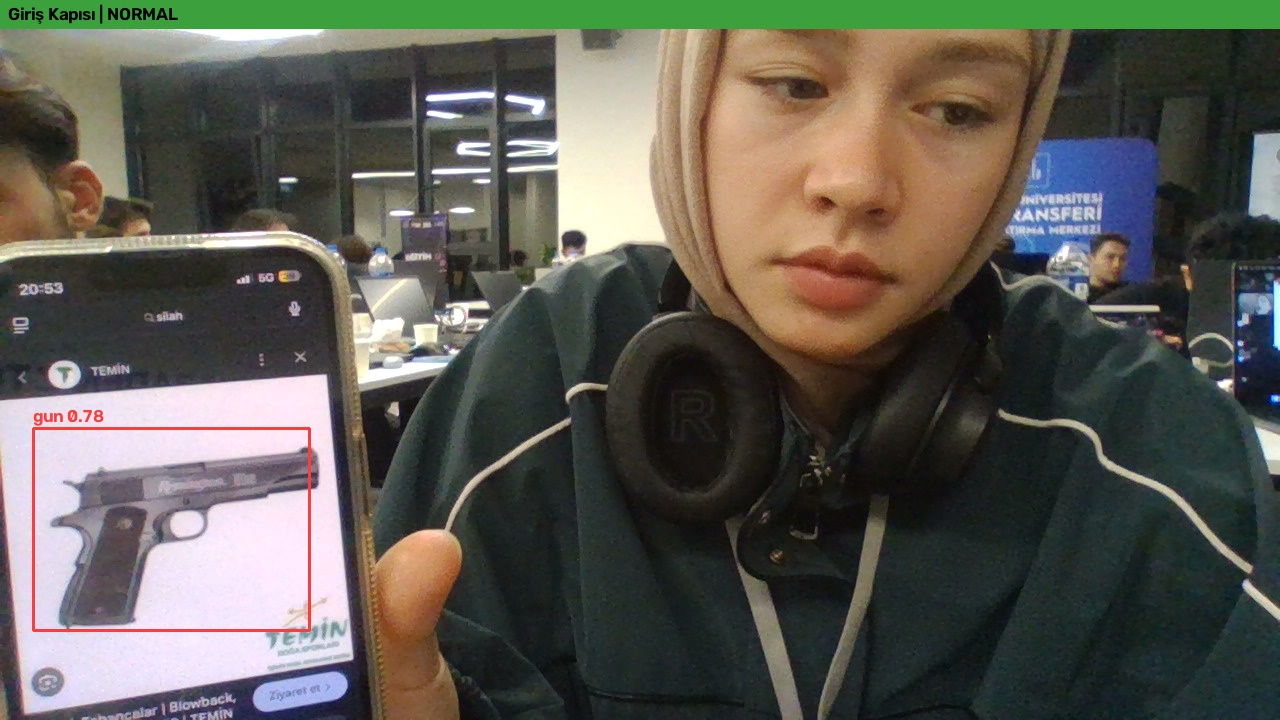weapon: (36, 420, 308, 626)
